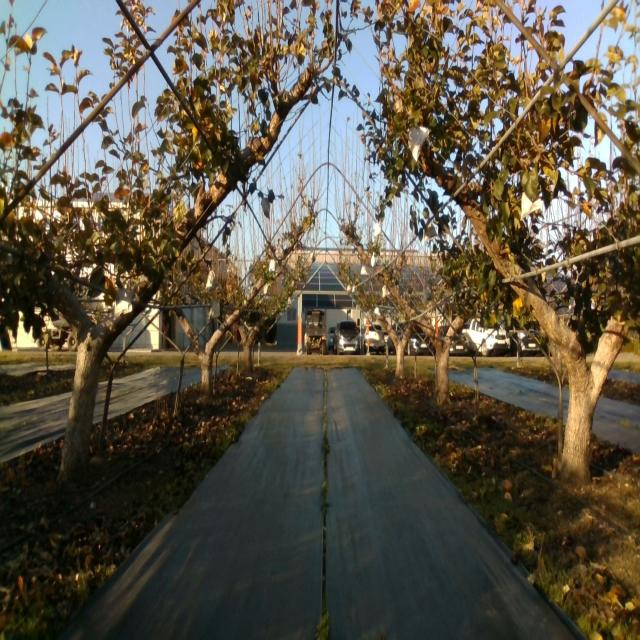pearbags: (520, 186, 544, 220), (408, 126, 430, 160), (114, 288, 133, 322), (206, 264, 219, 293), (260, 198, 270, 219)
